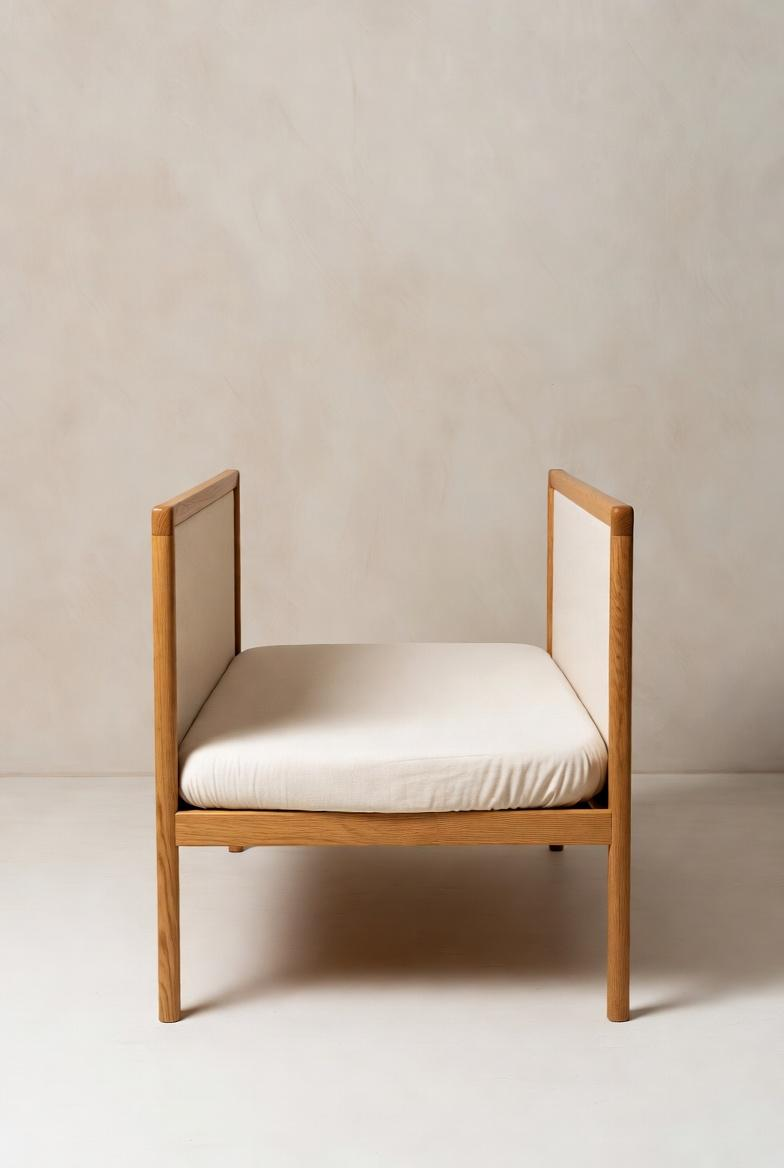crib: (107, 435, 677, 1042)
